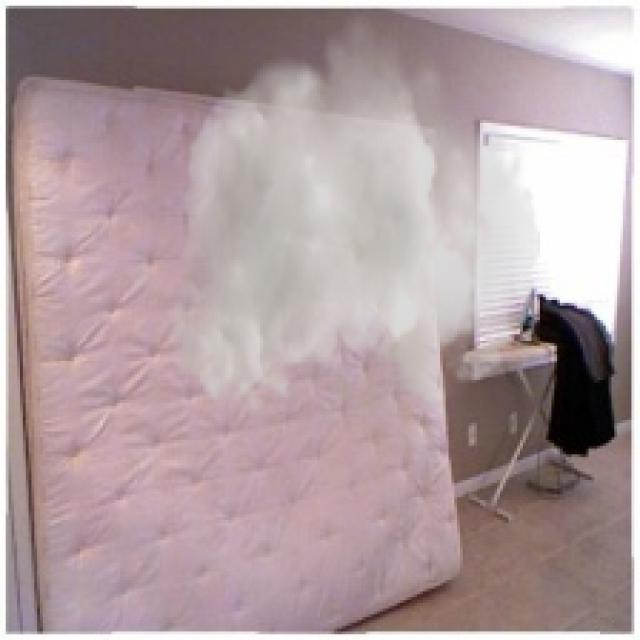Smoke: (168, 6, 540, 417)
